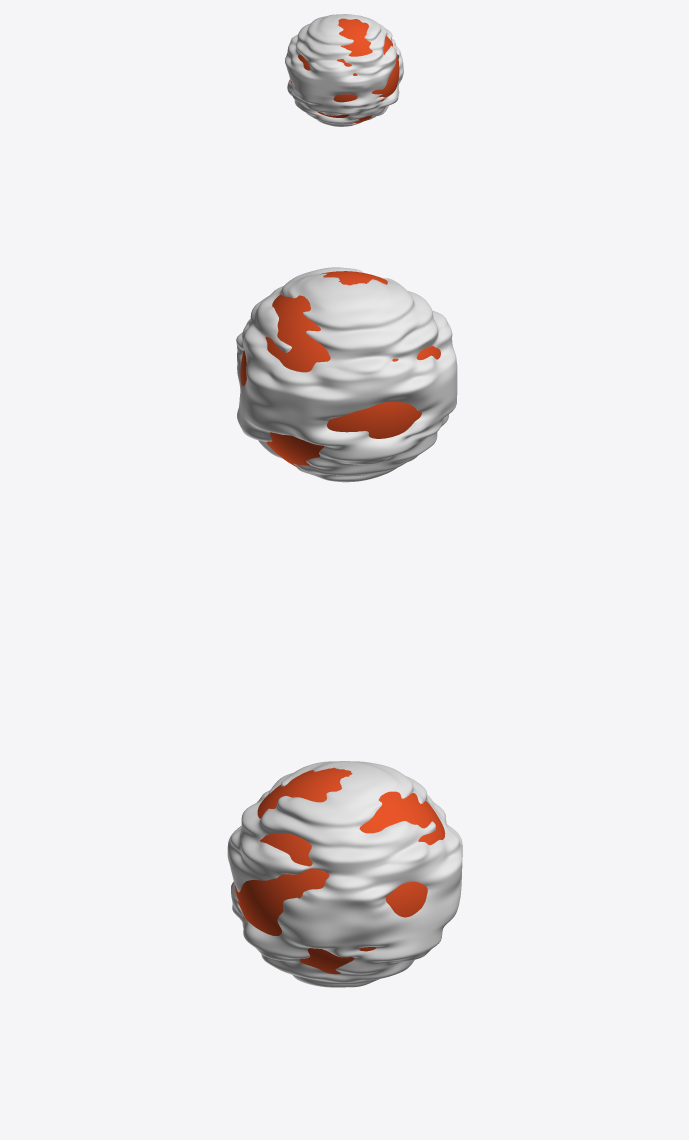
The model's file is planet6.fbx.
3 renders of one model, top to bottom at view 1: azimuth 30°, elevation 25°; view 2: azimuth 150°, elevation 25°; view 3: azimuth 270°, elevation 25°, orthographic. The views are drawn at different scales.
Visible parts, largest first — view 1: Cube; view 2: Cube; view 3: Cube.
Boxes of the visible parts, <box> form: Cube: <box>285,14,403,126</box>; Cube: <box>236,267,457,482</box>; Cube: <box>227,761,462,987</box>.
Size of the model in its own units: 1007 by 190 by 535.
